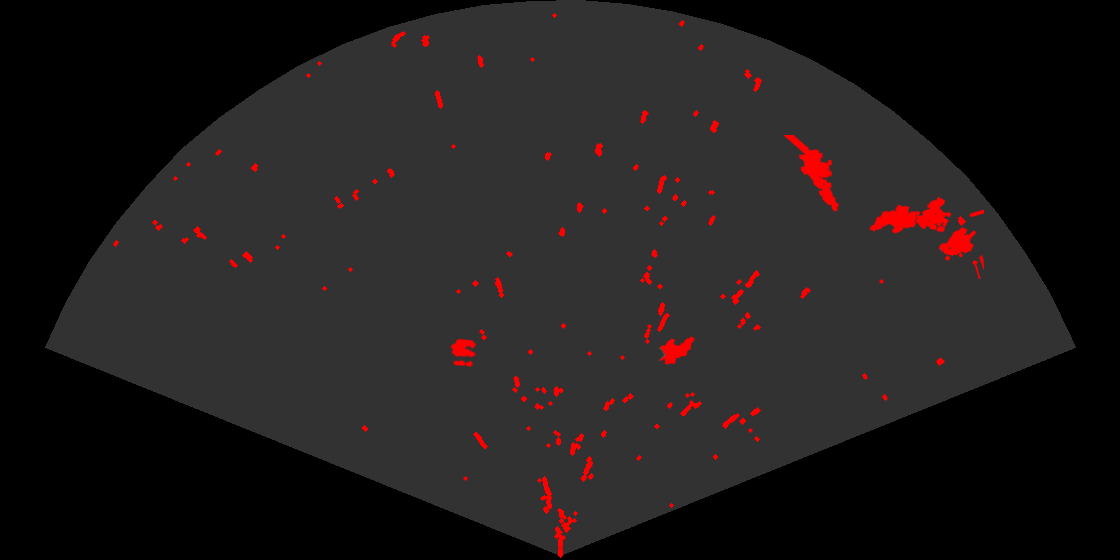AUV: (868, 203, 924, 235), (658, 335, 696, 366)
ball: (449, 337, 478, 368)
cage: (914, 195, 984, 279)
frogman: (782, 135, 840, 213)
